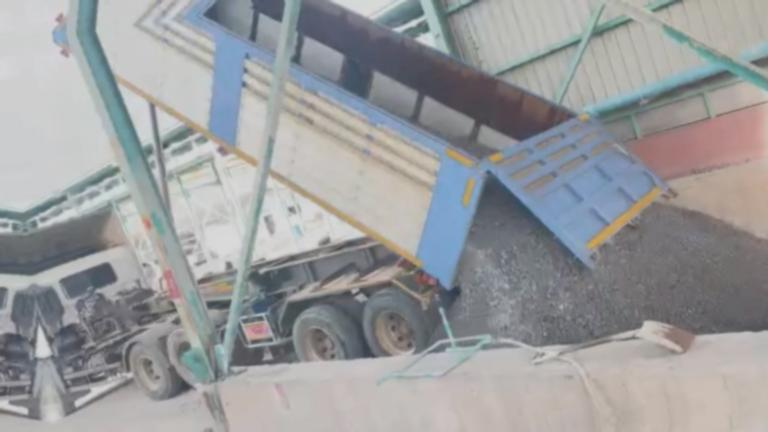gravel: (448, 181, 768, 344), (425, 123, 496, 155), (126, 428, 247, 432)
